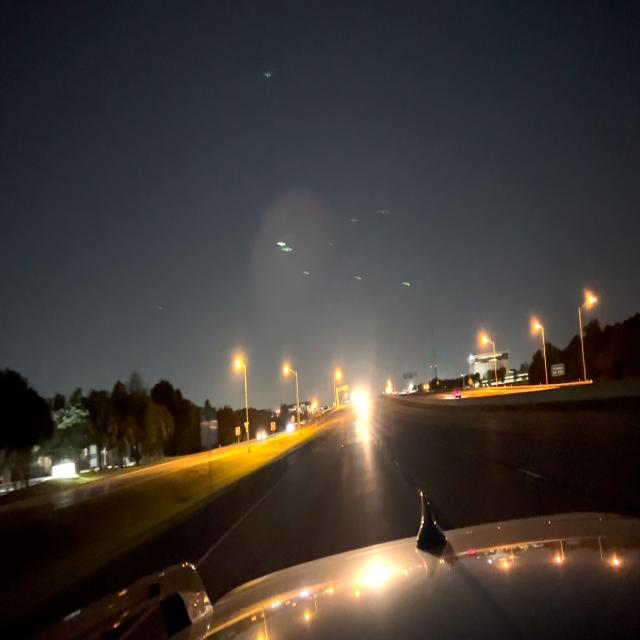back-of-sign: (202, 422, 218, 447)
